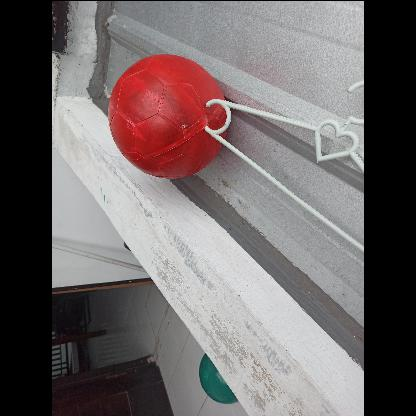red_ball: (106, 53, 228, 176)
